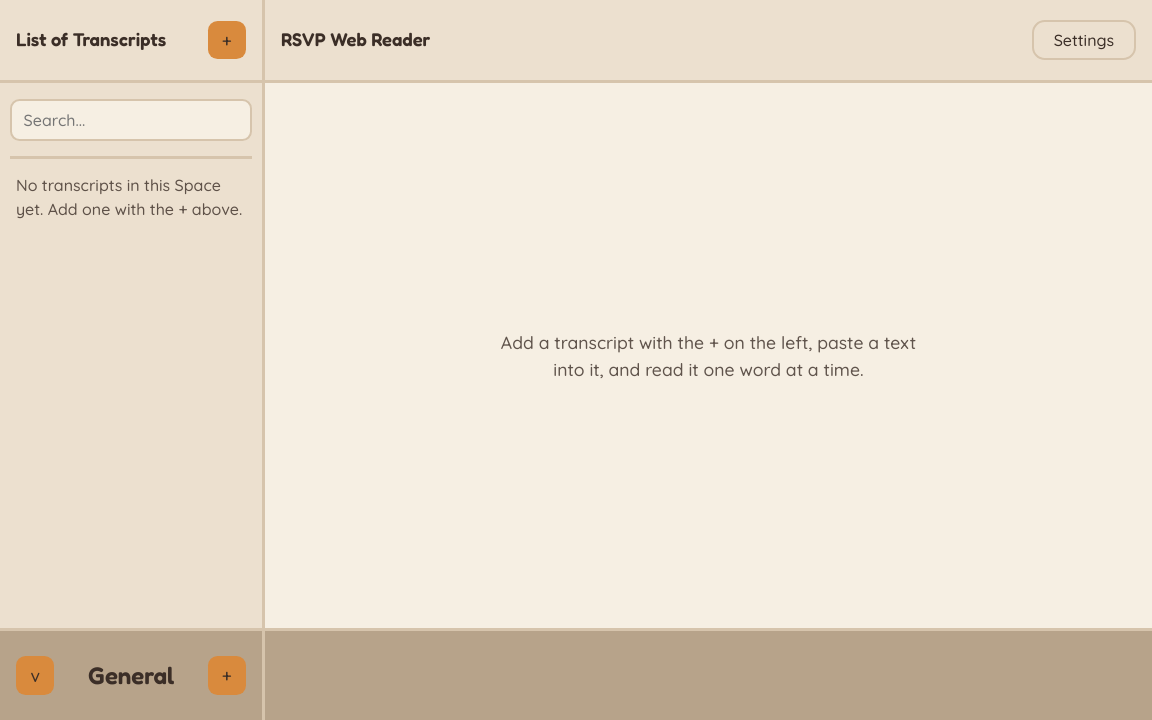
Test: spaces › a new Space becomes the current one, and starts empty
Click the button named "Add transcript": (227,40) [208,21,246,59]
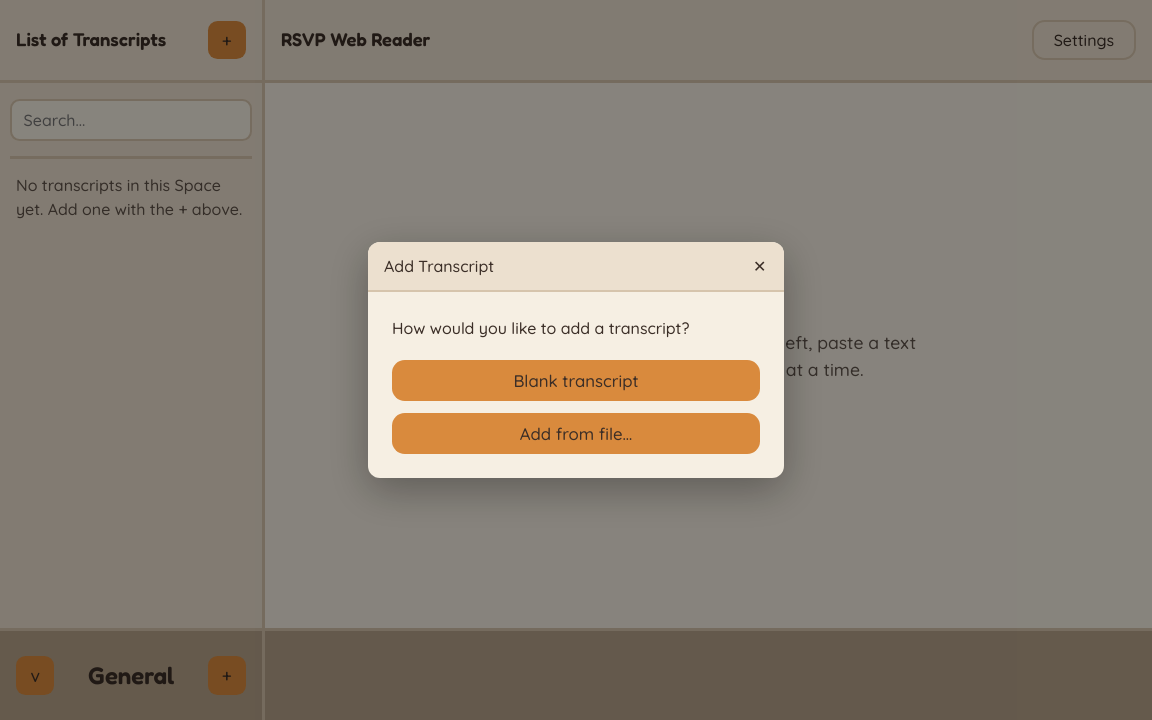
Click the button "Blank transcript": (576,380) [392,360,760,401]
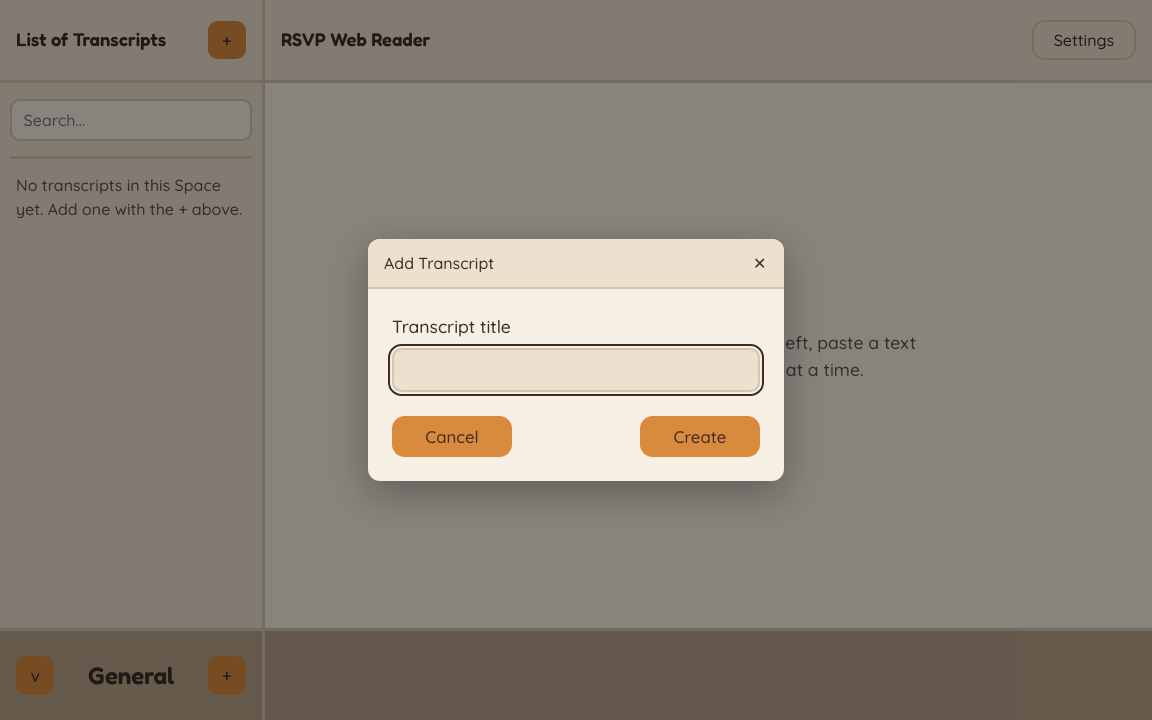
In the field: (576,370) [392,348,760,392], type "In General"
Click the button "Create": (700,436) [640,416,760,457]
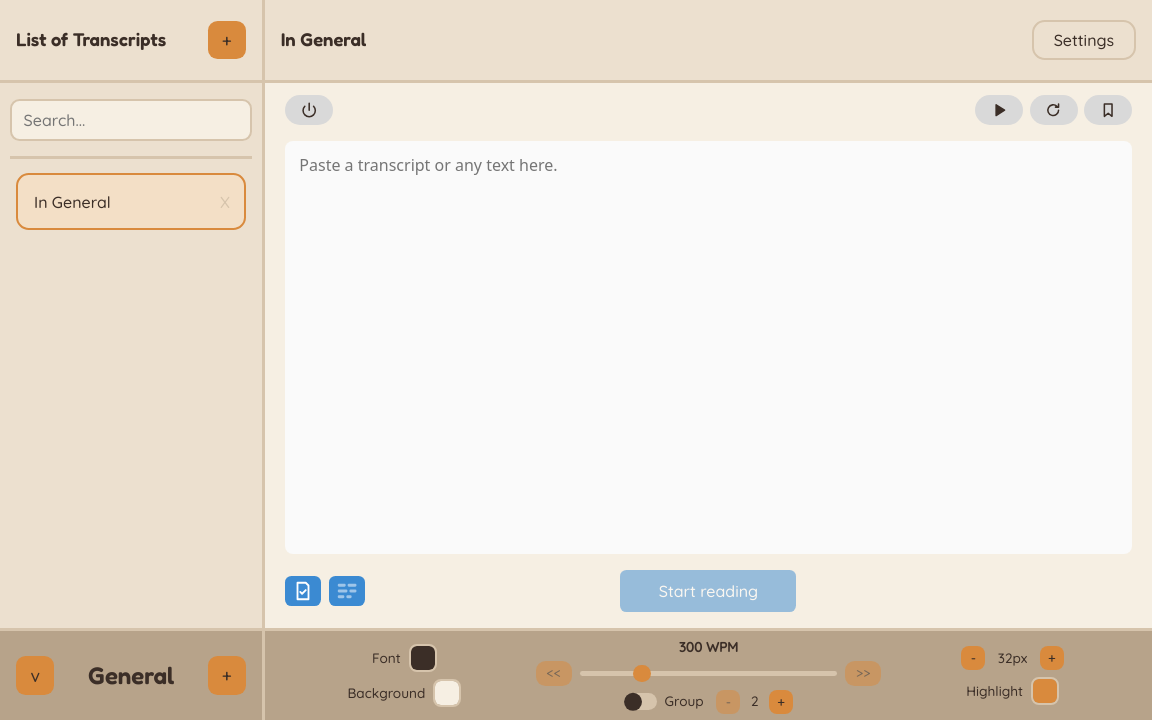
Click the button named "New Space": (227,676) [208,656,246,695]
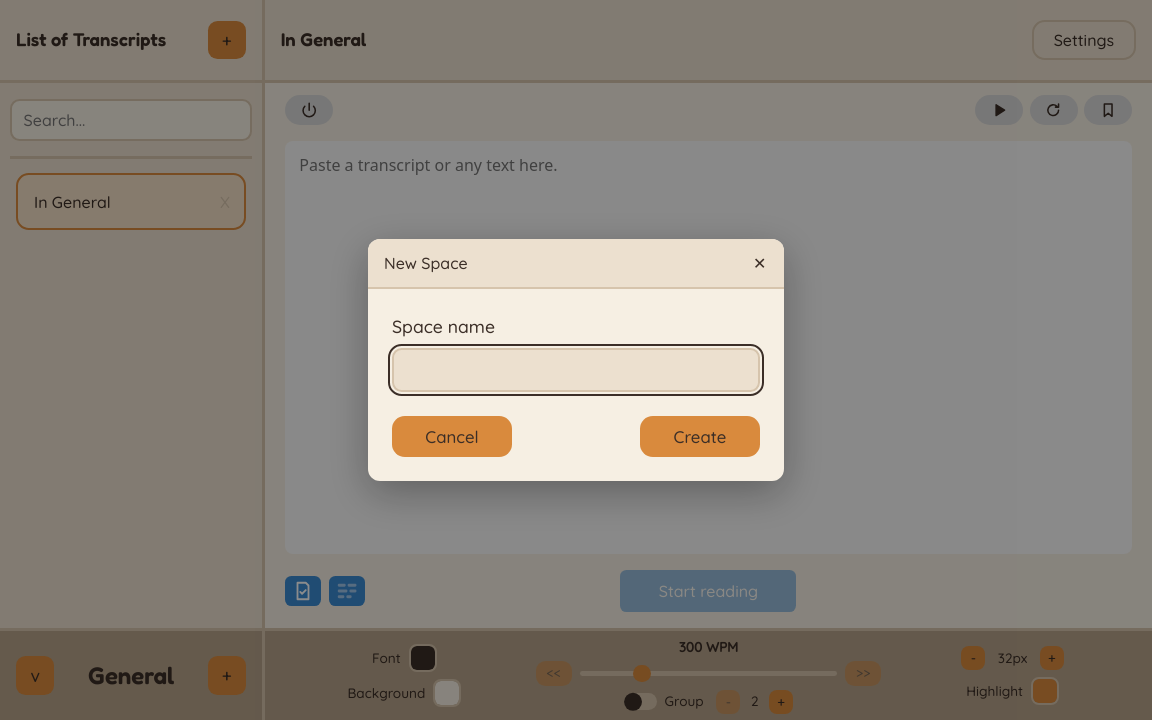
In the field: (576,370) [392,348,760,392], type "Work"
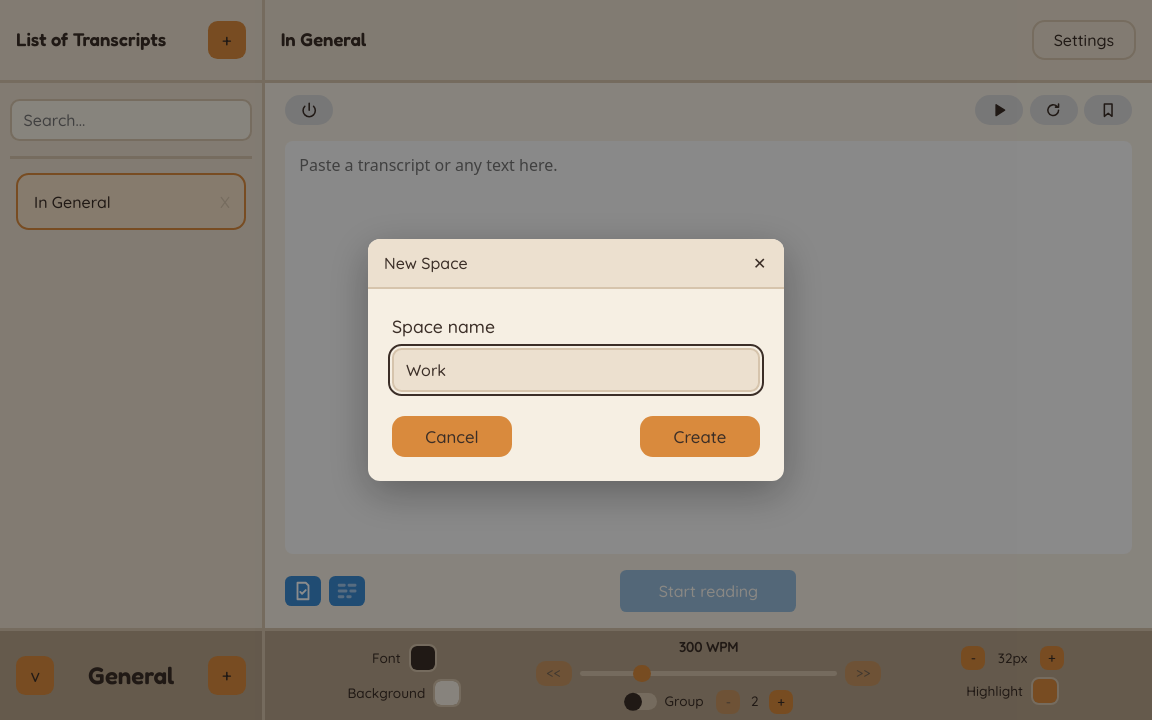
Click the button "Create": (700,436) [640,416,760,457]
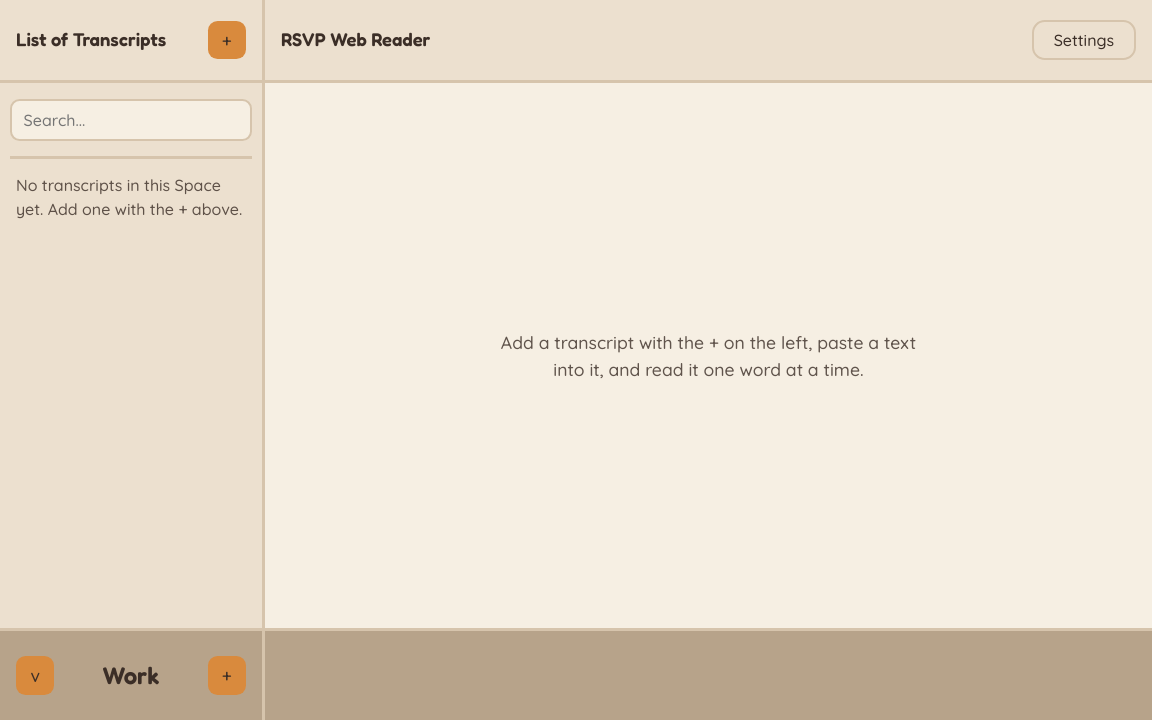
Expected: the text "Work" is shown, [103,660,159,690]
Expected: the heading "RSVP Web Reader" is shown, [281,26,430,54]
